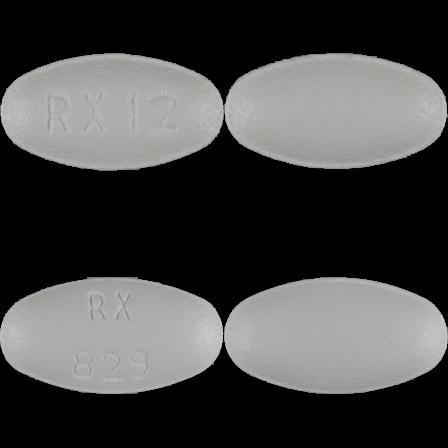63304-827: (0, 0, 224, 224)
